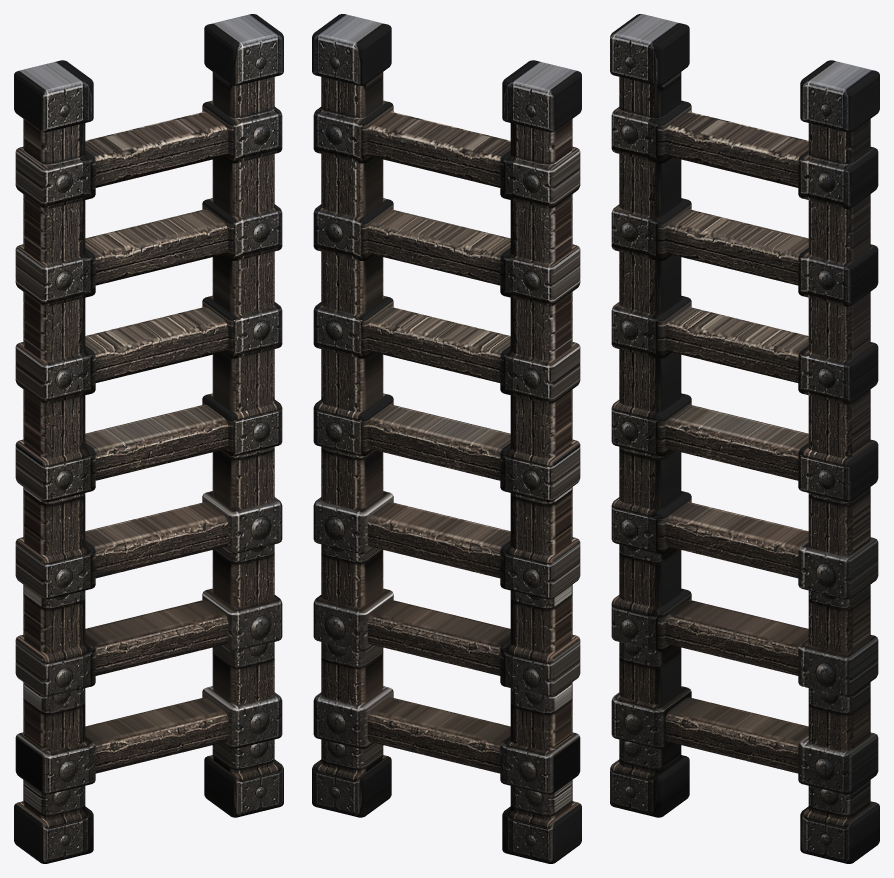
The model's file is Ladder_placeholder.fbx.
3 renders of one model, left to right at view 1: azimuth 30°, elevation 25°; view 2: azimuth 150°, elevation 25°; view 3: azimuth 330°, elevation 25°, orthographic.
Visible parts, largest first — view 1: Ladder_placeholder; view 2: Ladder_placeholder; view 3: Ladder_placeholder.
Part boxes in pixels (x1=…): Ladder_placeholder: x1=14, y1=14, x2=283, y2=863; Ladder_placeholder: x1=312, y1=14, x2=581, y2=863; Ladder_placeholder: x1=610, y1=14, x2=879, y2=863.
Size of the model in its own units: 95.2 by 289 by 20.87.
1 material, 1 textured.
